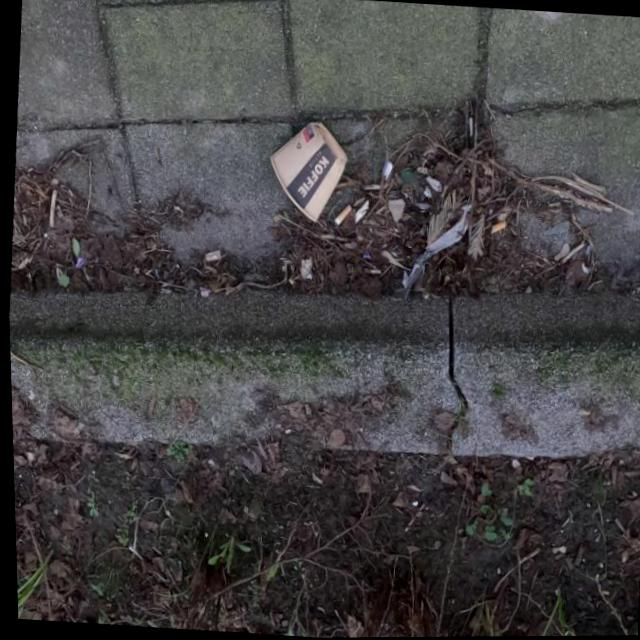Cup: (262, 112, 353, 226)
